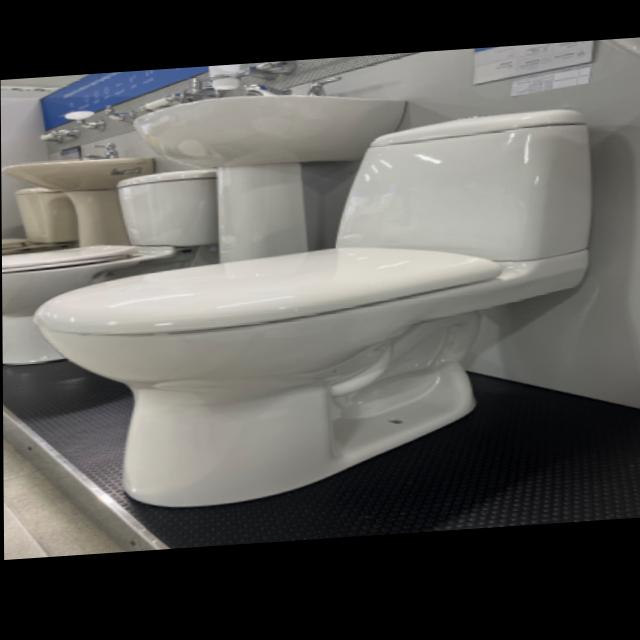toilet: (32, 114, 595, 518)
